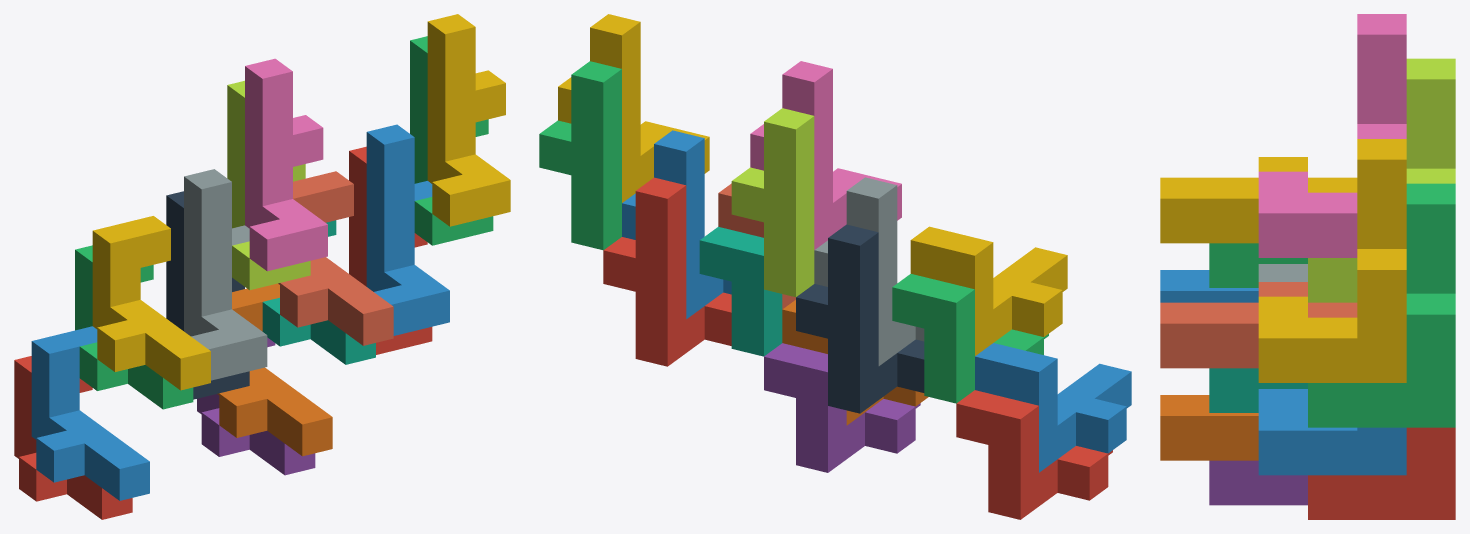
Rendered from tiling.obj.
3 views of the same model, side by side, from view 1: azimuth 30°, elevation 25°; view 2: azimuth 150°, elevation 25°; view 3: azimuth 270°, elevation 25° (orthographic). The views are drawn at different scales.
Parts seen in each view (by area): view 1: copy_2_domain_8, copy_2_domain_4, copy_1_domain_4, copy_2_domain_6, copy_1_domain_2, copy_2_domain_2, copy_1_domain_8, copy_1_domain_6, copy_1_domain_1, copy_1_domain_3, copy_2_domain_7, copy_2_domain_3 (+4 smaller); view 2: copy_2_domain_5, copy_2_domain_1, copy_1_domain_4, copy_2_domain_3, copy_1_domain_2, copy_2_domain_7, copy_1_domain_1, copy_1_domain_5, copy_1_domain_3, copy_2_domain_4, copy_2_domain_8, copy_1_domain_7 (+4 smaller); view 3: copy_2_domain_8, copy_2_domain_7, copy_2_domain_4, copy_2_domain_6, copy_2_domain_5, copy_2_domain_3, copy_1_domain_4, copy_1_domain_8, copy_1_domain_6, copy_1_domain_5, copy_1_domain_3, copy_1_domain_7 (+2 smaller).
Part boxes in pixels (bbox=[...]): copy_2_domain_8: bbox=[427, 14, 510, 226]; copy_2_domain_4: bbox=[245, 58, 327, 271]; copy_1_domain_4: bbox=[92, 216, 210, 390]; copy_2_domain_6: bbox=[366, 124, 449, 335]; copy_1_domain_2: bbox=[31, 326, 149, 500]; copy_2_domain_2: bbox=[184, 169, 267, 380]; copy_1_domain_8: bbox=[278, 171, 393, 345]; copy_1_domain_6: bbox=[217, 283, 332, 456]; copy_1_domain_1: bbox=[14, 356, 132, 519]; copy_1_domain_3: bbox=[75, 245, 193, 409]; copy_2_domain_7: bbox=[410, 36, 493, 245]; copy_2_domain_3: bbox=[227, 80, 310, 290]; copy_2_domain_5: bbox=[603, 177, 731, 366]; copy_2_domain_1: bbox=[796, 224, 924, 413]; copy_1_domain_4: bbox=[910, 226, 1067, 355]; copy_2_domain_3: bbox=[731, 108, 814, 297]; copy_1_domain_2: bbox=[975, 343, 1131, 472]; copy_2_domain_7: bbox=[539, 61, 621, 250]; copy_1_domain_1: bbox=[956, 390, 1112, 519]; copy_1_domain_5: bbox=[764, 343, 920, 472]; copy_1_domain_3: bbox=[892, 274, 1048, 403]; copy_2_domain_4: bbox=[750, 61, 901, 249]; copy_2_domain_8: bbox=[558, 14, 709, 202]; copy_1_domain_7: bbox=[699, 226, 782, 356]; copy_2_domain_8: bbox=[1258, 139, 1406, 382]; copy_2_domain_7: bbox=[1308, 183, 1455, 427]; copy_2_domain_4: bbox=[1258, 14, 1406, 257]; copy_2_domain_6: bbox=[1258, 389, 1406, 475]; copy_2_domain_5: bbox=[1308, 427, 1455, 519]; copy_2_domain_3: bbox=[1308, 58, 1455, 302]; copy_1_domain_4: bbox=[1160, 157, 1357, 243]; copy_1_domain_8: bbox=[1160, 282, 1357, 368]; copy_1_domain_6: bbox=[1160, 395, 1258, 460]; copy_1_domain_5: bbox=[1209, 460, 1307, 505]; copy_1_domain_3: bbox=[1209, 243, 1307, 287]; copy_1_domain_7: bbox=[1209, 368, 1307, 412].
Size of the model in its own units: 16 by 11 by 6.
